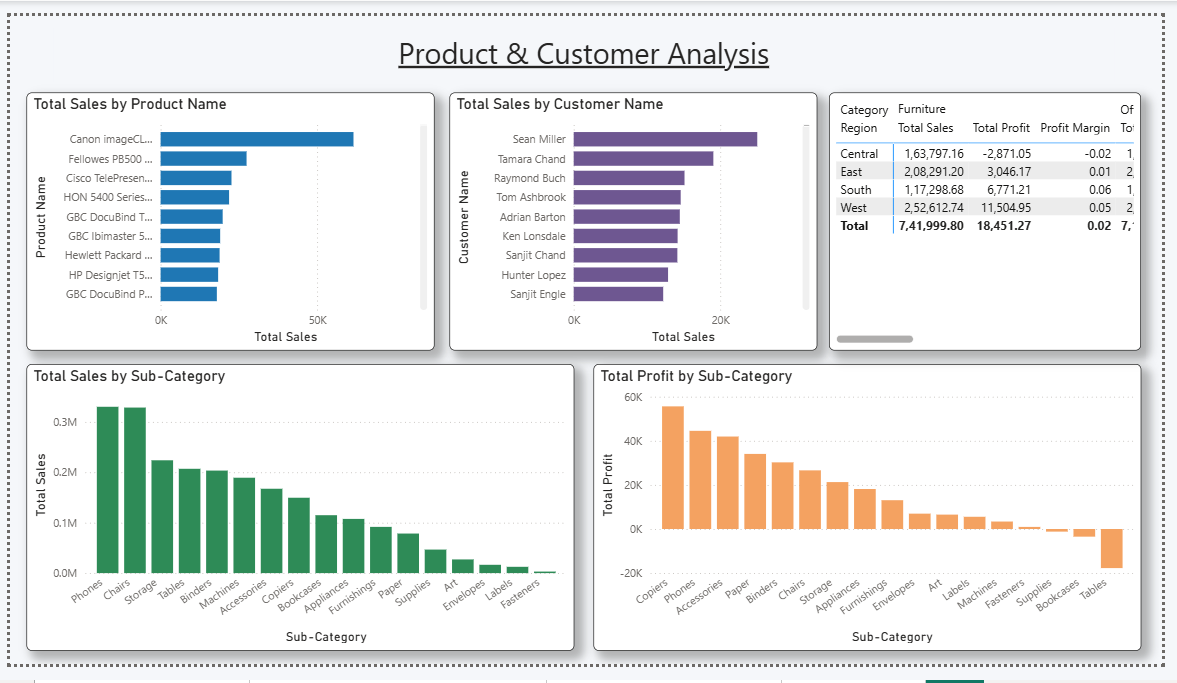

The page's visual inventory and layout, read from the dashboard file:
{"tool":"powerbi","page":{"name":"Product & Customer Analysis ","canvas":[1280,720],"ordinal":1},"visuals":[{"type":"clusteredBarChart","fields":{"Category":["Orders.Product Name"],"Y":["Orders.Total Sales"]},"box":[18.3,85,453.3,286.7],"z":1000},{"type":"clusteredBarChart","fields":{"Y":["Orders.Total Sales"],"Category":["Orders.Customer Name"]},"box":[488.3,85,408.3,286.7],"z":2000},{"type":"clusteredColumnChart","fields":{"Y":["Orders.Total Sales"],"Category":["Orders.Sub-Category"]},"box":[18.3,386.7,608.3,318.3],"z":3000},{"type":"clusteredColumnChart","fields":{"Y":["Orders.Total Profit"],"Category":["Orders.Sub-Category"]},"box":[648.3,386.7,608.3,318.3],"z":4000},{"type":"pivotTable","fields":{"Rows":["Orders.Region"],"Columns":["Orders.Category"],"Values":["Orders.Total Sales","Orders.Total Profit","Orders.Profit Margin"]},"box":[910,85,346.7,286.7],"z":5000},{"type":"textbox","box":[48.3,13.3,1178.3,60],"z":5001}]}

Visuals, with their boxes on the page's 1280x720 design canvas (x1, y1, x2, y2). These are canvas units, not pixel positions in the 1177x683 screenshot, which may show the page scaled, cropped or inside an application window:
clusteredBarChart - Orders.Product Name x Orders.Total Sales: <box>18,85,472,372</box>
clusteredBarChart - Orders.Total Sales x Orders.Customer Name: <box>488,85,897,372</box>
clusteredColumnChart - Orders.Total Sales x Orders.Sub-Category: <box>18,387,627,705</box>
clusteredColumnChart - Orders.Total Profit x Orders.Sub-Category: <box>648,387,1257,705</box>
pivotTable - Orders.Region x Orders.Category: <box>910,85,1257,372</box>
textbox: <box>48,13,1227,73</box>
